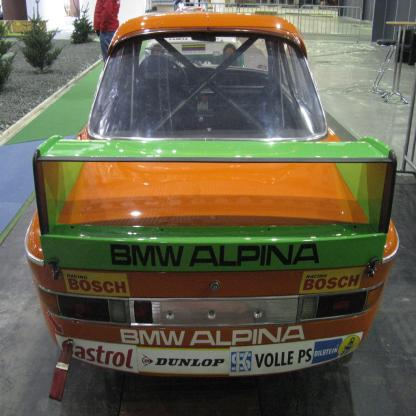Car: (23, 14, 404, 406)
